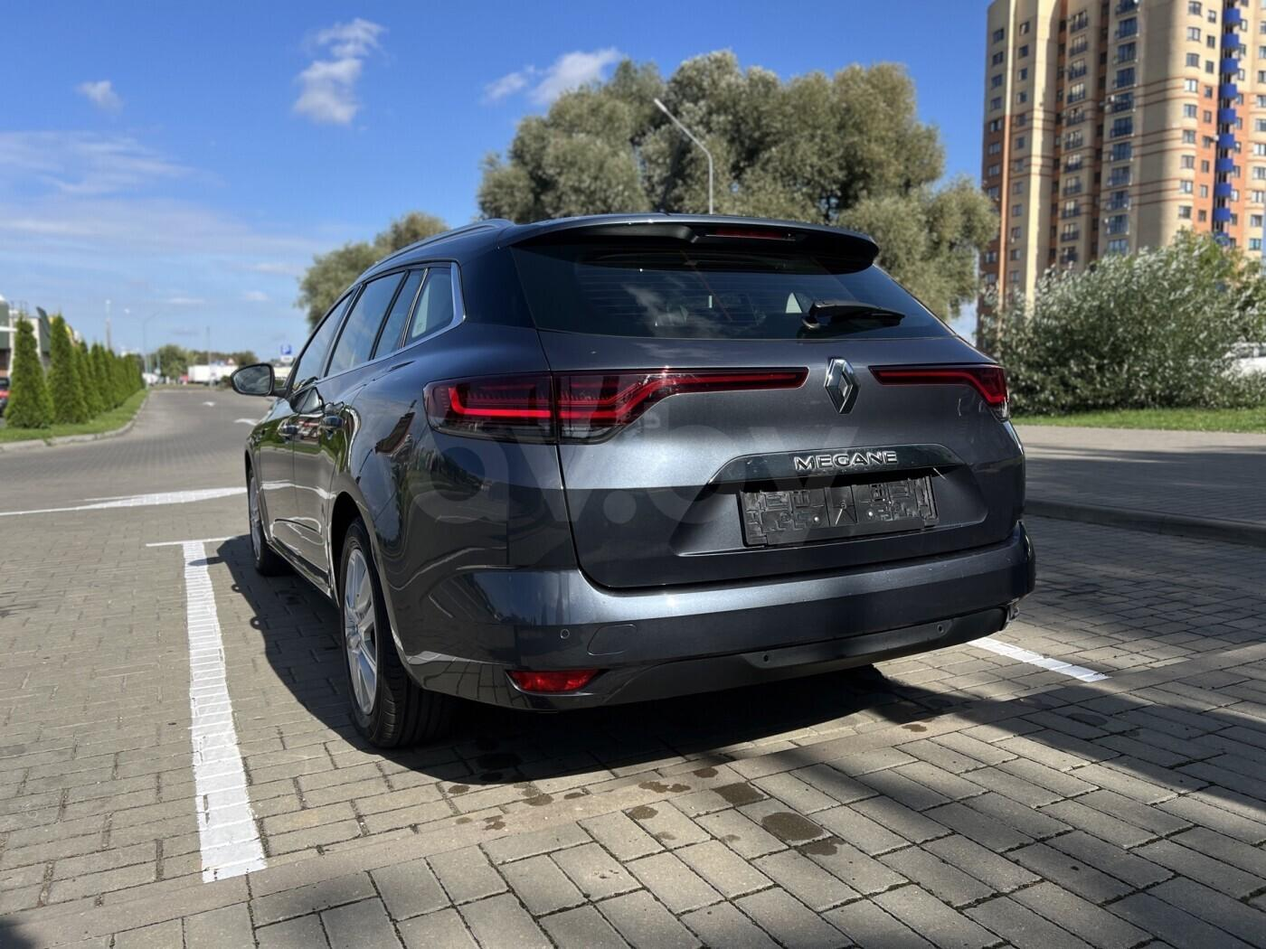Megane_2020: (222, 216, 1032, 753)
